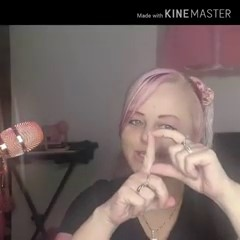D: (106, 127, 226, 225)
